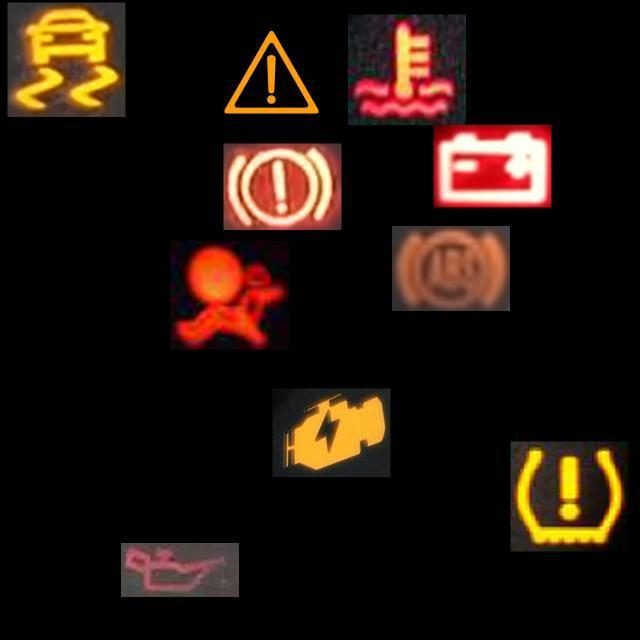Central Warning lamp: (212, 13, 330, 132)
Engine cooling system: (348, 15, 466, 126)
